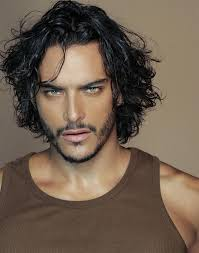Indian_Male: (29, 52, 121, 163)
